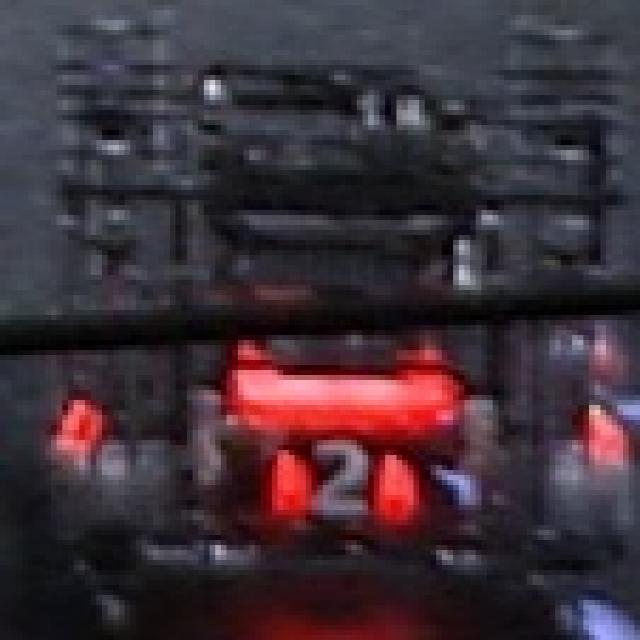R2: (238, 438, 425, 532)
